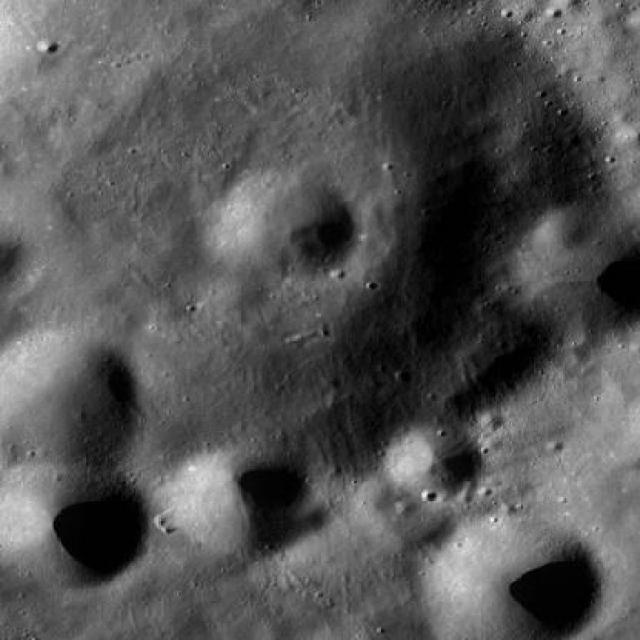crater: (0, 334, 149, 482), (0, 457, 148, 586), (163, 441, 314, 556), (211, 173, 357, 284), (287, 512, 418, 614), (348, 466, 457, 551), (387, 424, 485, 500), (200, 265, 272, 321), (538, 212, 592, 252), (76, 125, 116, 154), (252, 614, 292, 640), (472, 113, 502, 136), (478, 409, 506, 431), (563, 342, 589, 362), (360, 197, 383, 214), (607, 108, 630, 125), (37, 37, 59, 54), (0, 156, 17, 178), (396, 498, 418, 514), (0, 0, 2, 2), (1, 0, 2, 1)
